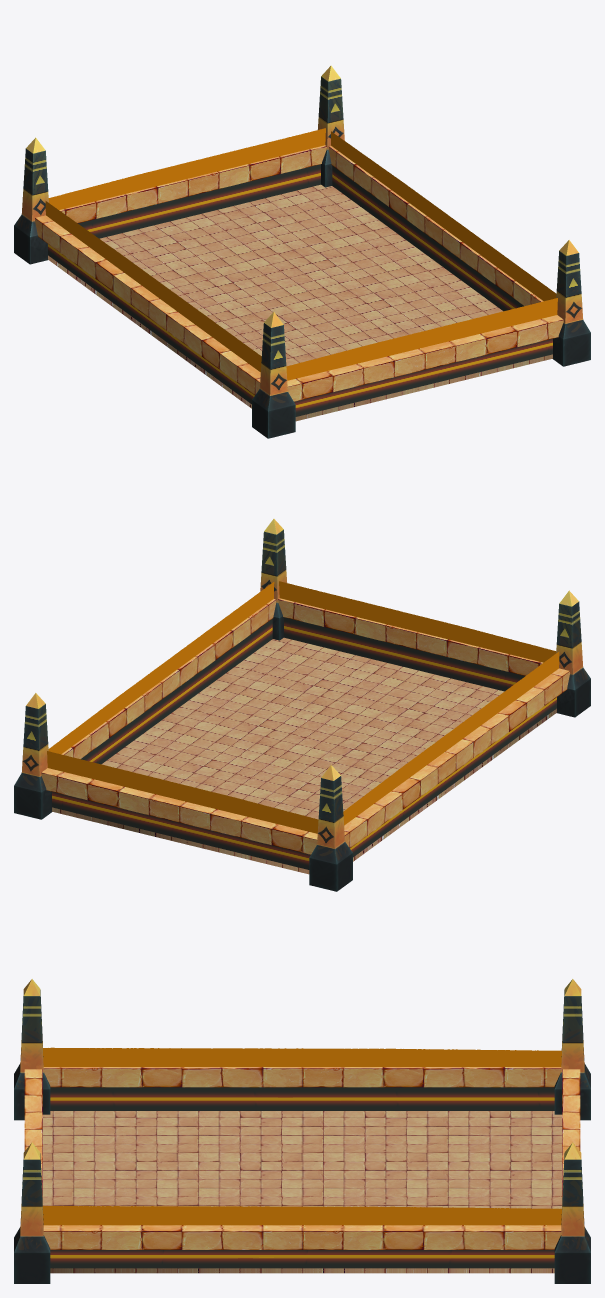
File: Duel_Stage 43.fbx
3 views of the same model, one above another, from view 1: azimuth 30°, elevation 25°; view 2: azimuth 150°, elevation 25°; view 3: azimuth 270°, elevation 25° (orthographic). The views are drawn at different scales.
Visible parts, largest first — view 1: CR_Platform_Cube, CR_Platform_Cube.003, Cube.078, Plane.103, Plane.104; view 2: CR_Platform_Cube, CR_Platform_Cube.003, Cube.078, Plane.103, Plane.104; view 3: CR_Platform_Cube, CR_Platform_Cube.003, Plane.104, Cube.078.
Boxes of the visible parts, left/top/right/bottom form: CR_Platform_Cube: left=48, top=184, right=552, bottom=421; CR_Platform_Cube.003: left=35, top=145, right=563, bottom=416; Cube.078: left=14, top=65, right=590, bottom=438; Plane.103: left=48, top=128, right=557, bottom=380; Plane.104: left=45, top=131, right=556, bottom=372; CR_Platform_Cube: left=52, top=637, right=556, bottom=874; CR_Platform_Cube.003: left=41, top=598, right=569, bottom=869; Cube.078: left=14, top=519, right=590, bottom=891; Plane.103: left=47, top=581, right=556, bottom=833; Plane.104: left=48, top=582, right=559, bottom=825; CR_Platform_Cube: left=42, top=1111, right=562, bottom=1273; CR_Platform_Cube.003: left=24, top=1067, right=580, bottom=1268; Plane.104: left=43, top=1047, right=561, bottom=1225; Cube.078: left=14, top=979, right=590, bottom=1283.
Bounding box in the file's own units: 2476 × 1257 × 3374.
